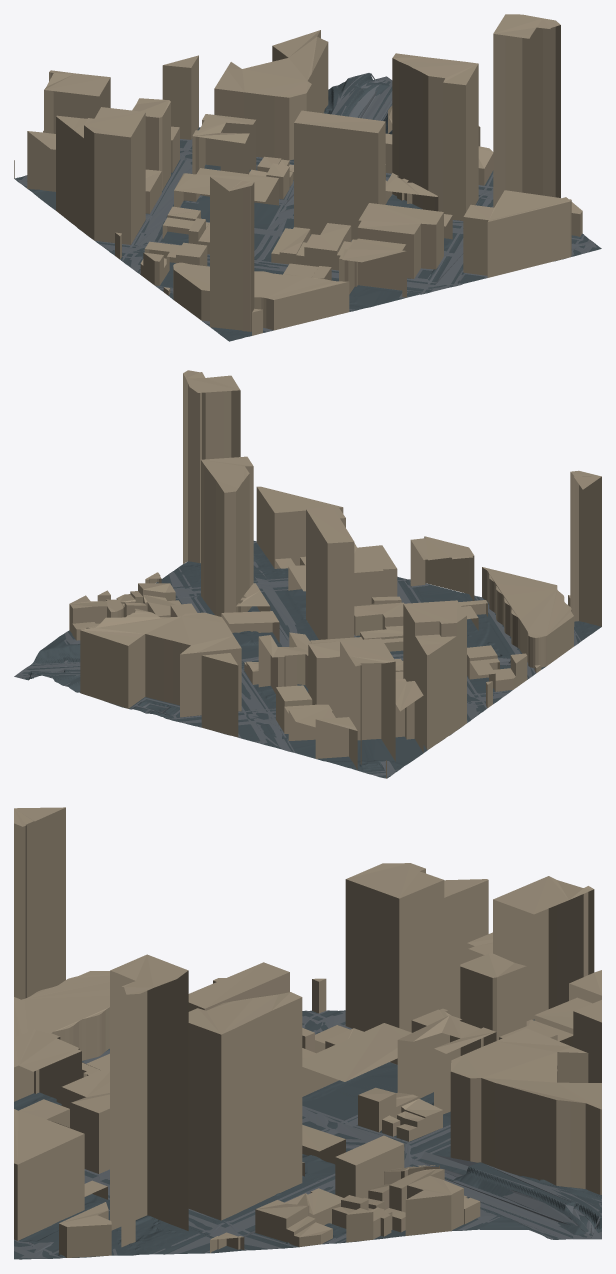
Rendered from epsg26910-1440-10891.lod0.glb.
3 views of the same model, one above another, from view 1: azimuth 30°, elevation 25°; view 2: azimuth 150°, elevation 25°; view 3: azimuth 270°, elevation 25° (orthographic). The views are drawn at different scales.
Visible parts, largest first — view 1: epsg26910-1440-10891-lod0; view 2: epsg26910-1440-10891-lod0; view 3: epsg26910-1440-10891-lod0.
Part boxes in pixels (x1,y1,x2,y2): epsg26910-1440-10891-lod0: (14, 14, 601, 341); epsg26910-1440-10891-lod0: (14, 370, 601, 778); epsg26910-1440-10891-lod0: (14, 807, 601, 1259).
Bounding box in the file's own units: 384 × 199 × 384.
